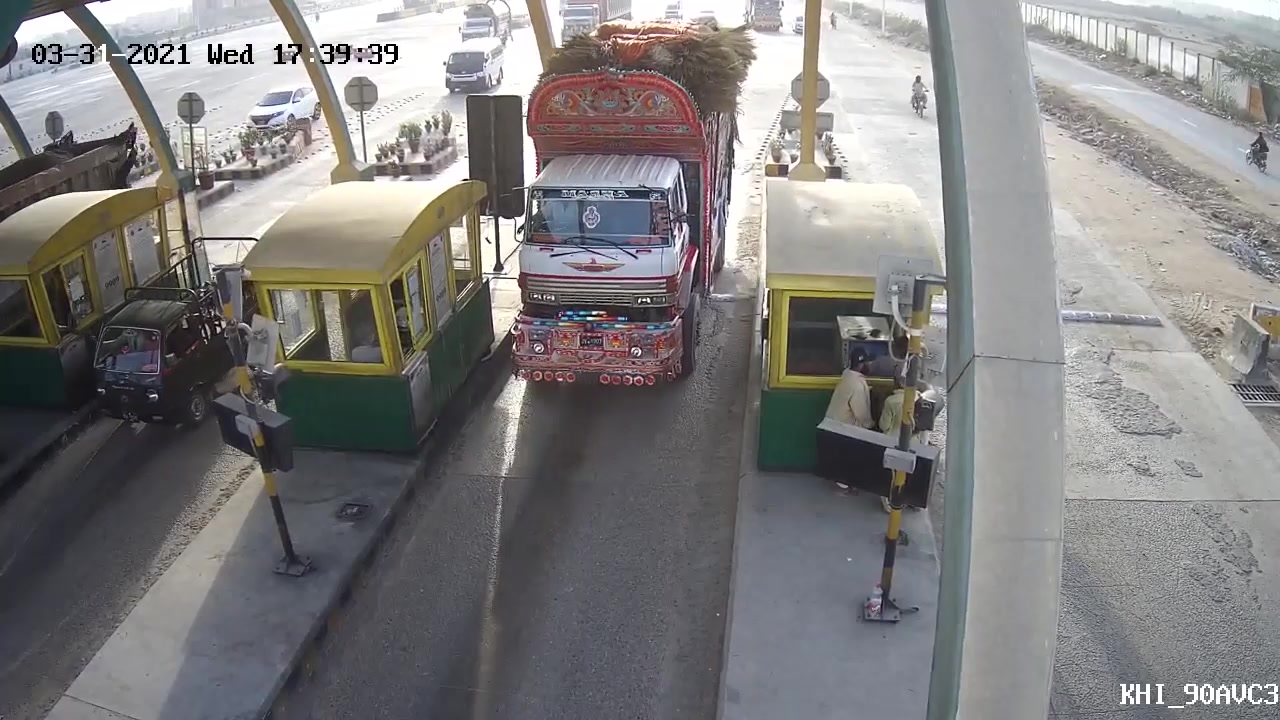F5: (483, 26, 750, 412)
